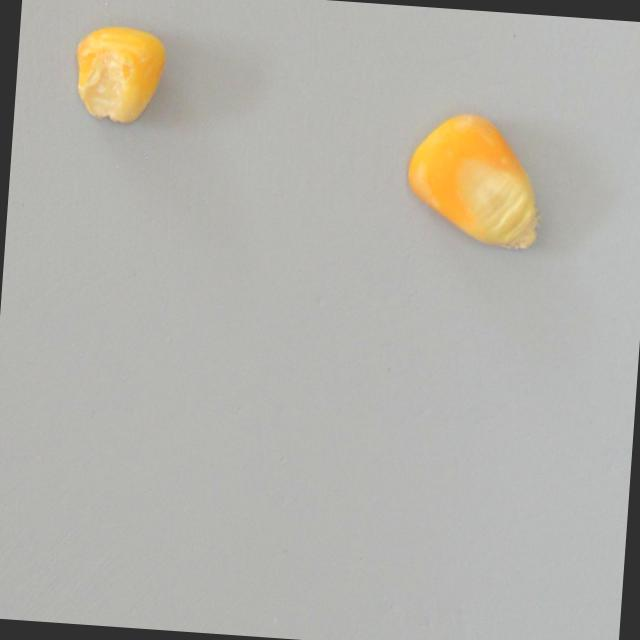entero: (398, 99, 554, 258)
pelicula: (67, 18, 174, 134)
